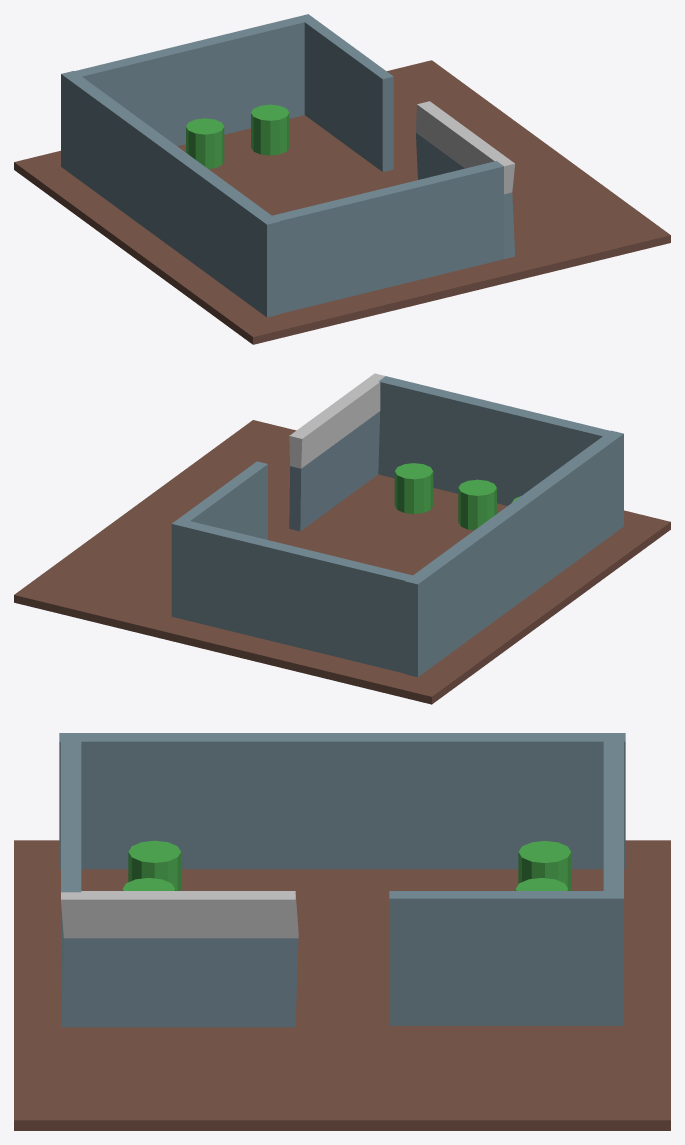
The picture shows the model from 3 angles, top to bottom: view 1: azimuth 30°, elevation 25°; view 2: azimuth 150°, elevation 25°; view 3: azimuth 270°, elevation 25°; orthographic projection. The views are drawn at different scales.
Parts seen in each view (by area): view 1: mesh_1528555308, mesh_1559644502, mesh_1734454718, mesh_1532280256, mesh_1933878554, mesh_529391708, mesh_1824658481, mesh_1144164654; view 2: mesh_1528555308, mesh_1559644502, mesh_1532280256, mesh_1734454718, mesh_529391708, mesh_1933878554, mesh_790258491, mesh_1214217662; view 3: mesh_1528555308, mesh_1559644502, mesh_529391708, mesh_1933878554, mesh_1734454718, mesh_1532280256, mesh_1149920995, mesh_1351197009.
Boxes of the visible parts, x1,y1,x2,y2 form: mesh_1528555308: (14,60,670,344); mesh_1559644502: (61,71,279,317); mesh_1734454718: (271,161,503,313); mesh_1532280256: (75,17,304,146); mesh_1933878554: (297,14,393,171); mesh_529391708: (416,101,515,259); mesh_1824658481: (251,104,289,155); mesh_1144164654: (186,118,224,168); mesh_1528555308: (14,420,670,704); mesh_1559644502: (405,430,623,677); mesh_1532280256: (182,521,412,673); mesh_1734454718: (378,376,610,505); mesh_529391708: (289,373,385,531); mesh_1933878554: (171,461,267,619); mesh_790258491: (394,463,433,513); mesh_1214217662: (458,479,496,530); mesh_1528555308: (14,840,670,1130); mesh_1559644502: (59,733,625,869); mesh_529391708: (61,891,298,1027); mesh_1933878554: (389,891,623,1025); mesh_1734454718: (61,741,81,1012); mesh_1532280256: (603,741,623,890); mesh_1149920995: (128,840,181,890); mesh_1351197009: (518,841,571,890).
Size of the model in its own units: 226 by 52 by 224.
